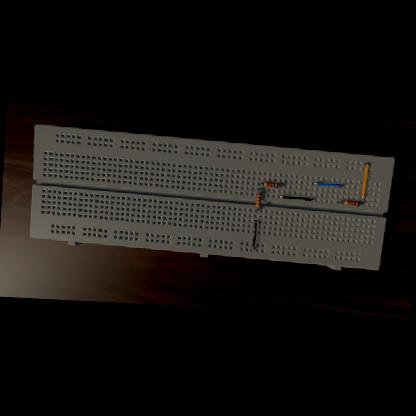breadboard: (27, 122, 394, 270)
resistor: (342, 198, 358, 204), (254, 190, 260, 205), (263, 180, 278, 186)
wire: (358, 161, 367, 197), (250, 218, 256, 248), (312, 180, 341, 186), (278, 194, 312, 199), (255, 206, 257, 209), (257, 187, 259, 190), (257, 182, 262, 183), (278, 183, 280, 184)
